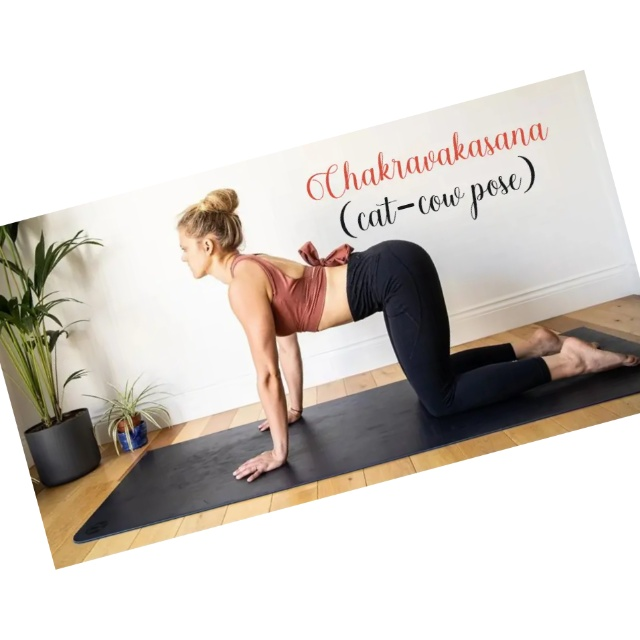Cow_Pose: (178, 188, 634, 482)
